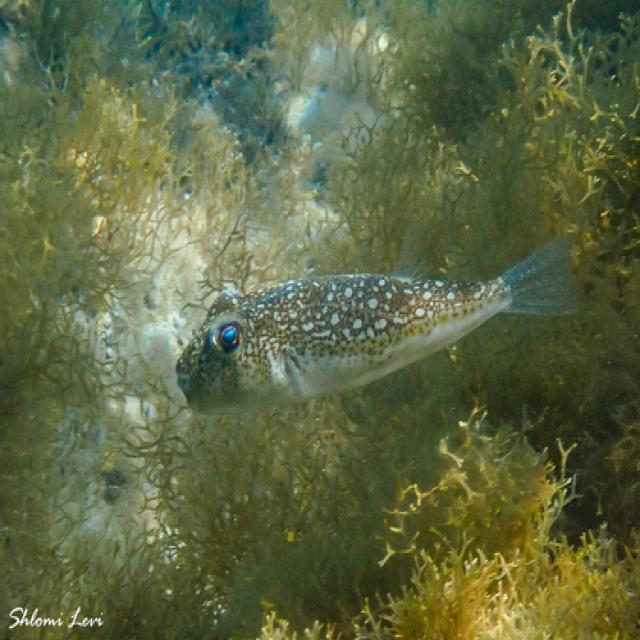Balik: (177, 238, 577, 411)
